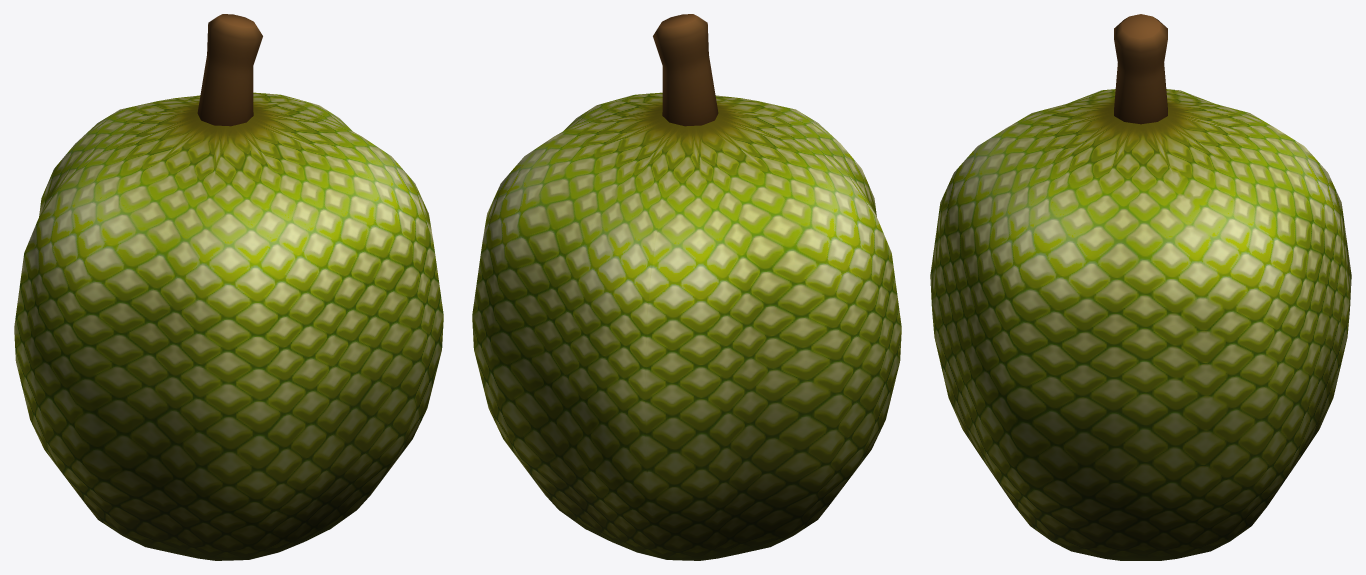
Rendered from Jackfruit.fbx.
The picture shows the model from 3 angles, left to right: view 1: azimuth 30°, elevation 25°; view 2: azimuth 150°, elevation 25°; view 3: azimuth 270°, elevation 25°; orthographic projection.
Visible parts, largest first — view 1: Jackfruit; view 2: Jackfruit; view 3: Jackfruit.
Boxes of the visible parts, bbox=[...] form: Jackfruit: bbox=[14, 14, 443, 560]; Jackfruit: bbox=[472, 14, 901, 560]; Jackfruit: bbox=[930, 14, 1351, 560].
Size of the model in its own units: 70.3 by 94.92 by 68.69.
